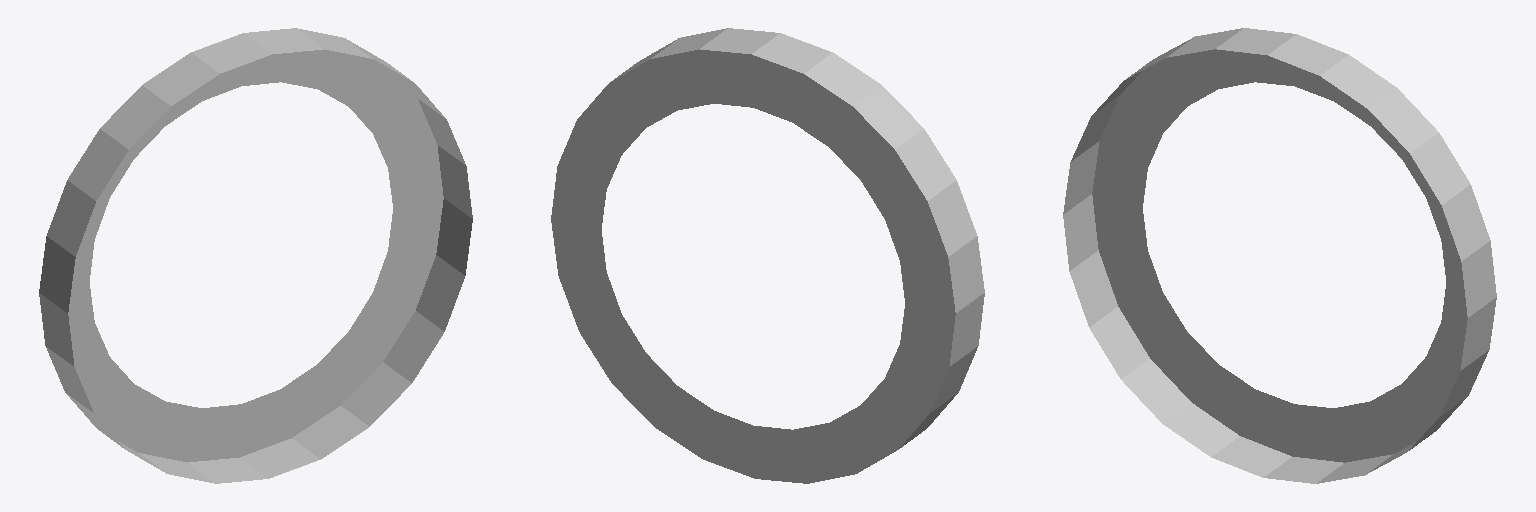
File: original-15.obj
3 views of the same model, side by side, from view 1: azimuth 30°, elevation 25°; view 2: azimuth 150°, elevation 25°; view 3: azimuth 330°, elevation 25° (orthographic).
Parts seen in each view (by area): view 1: #ID308; view 2: #ID308; view 3: #ID308.
Part boxes in pixels (x1,y1,x2,y2): #ID308: (39, 28, 472, 483); #ID308: (551, 28, 984, 483); #ID308: (1063, 28, 1496, 483).
Size of the model in its own units: 0.1538 by 0.1538 by 0.0192.